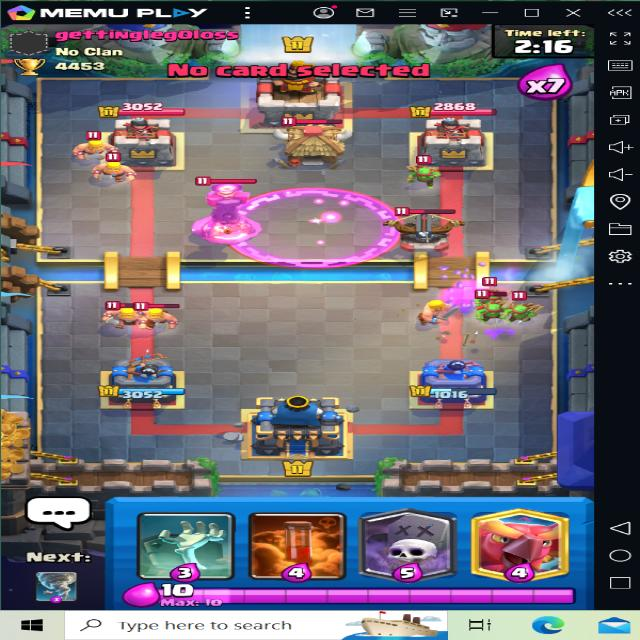barbarian: (86, 150, 144, 183), (132, 296, 184, 330), (66, 126, 124, 156), (98, 294, 146, 330)
goblin-hut: (273, 115, 353, 165)
inferno-tower: (180, 169, 266, 246)
spear-goblin: (411, 154, 447, 189), (505, 289, 540, 323), (475, 292, 511, 322)
x-bow: (386, 197, 466, 252)
